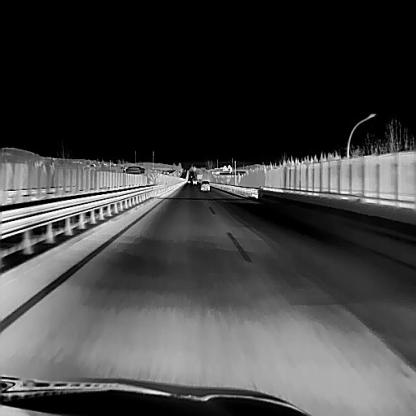car: (191, 176, 196, 184)
truck: (199, 180, 209, 190)
